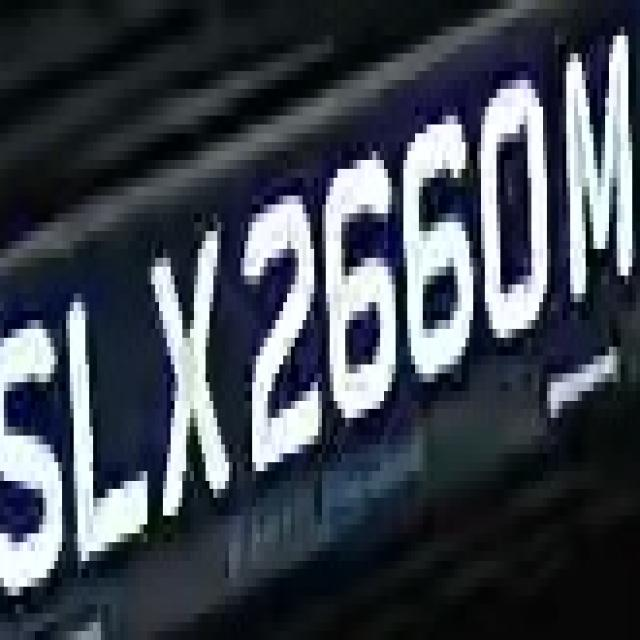0: (469, 62, 555, 391)
2: (225, 169, 326, 480)
6: (314, 116, 407, 453), (407, 98, 477, 426)
L: (58, 249, 159, 560)
M: (547, 36, 636, 311)
S: (8, 267, 62, 622)
X: (136, 205, 240, 524)
